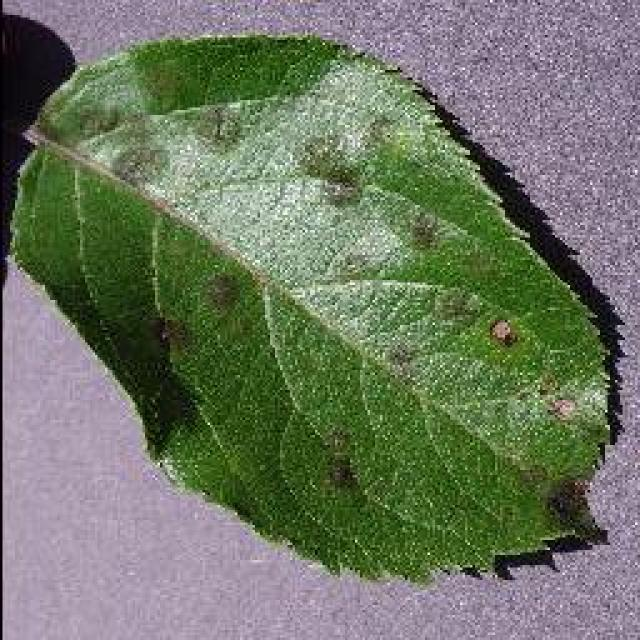apple scab disease: (8, 30, 620, 585)
